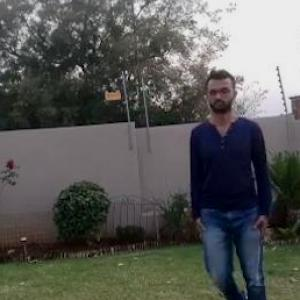follow: (183, 71, 268, 299)
